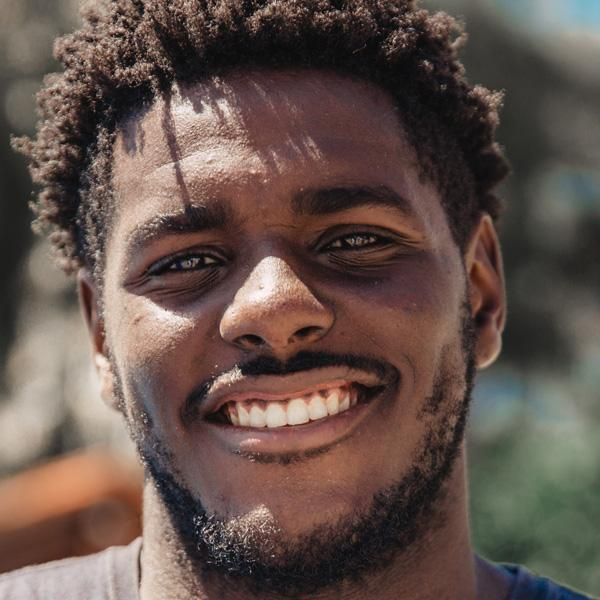Eyes: (135, 229, 243, 302), (301, 216, 416, 274)
